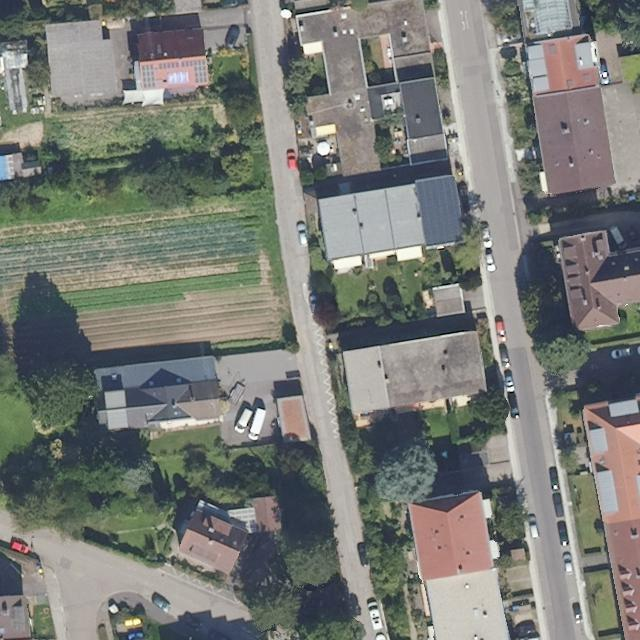PV: (159, 59, 208, 83), (141, 64, 156, 88)
